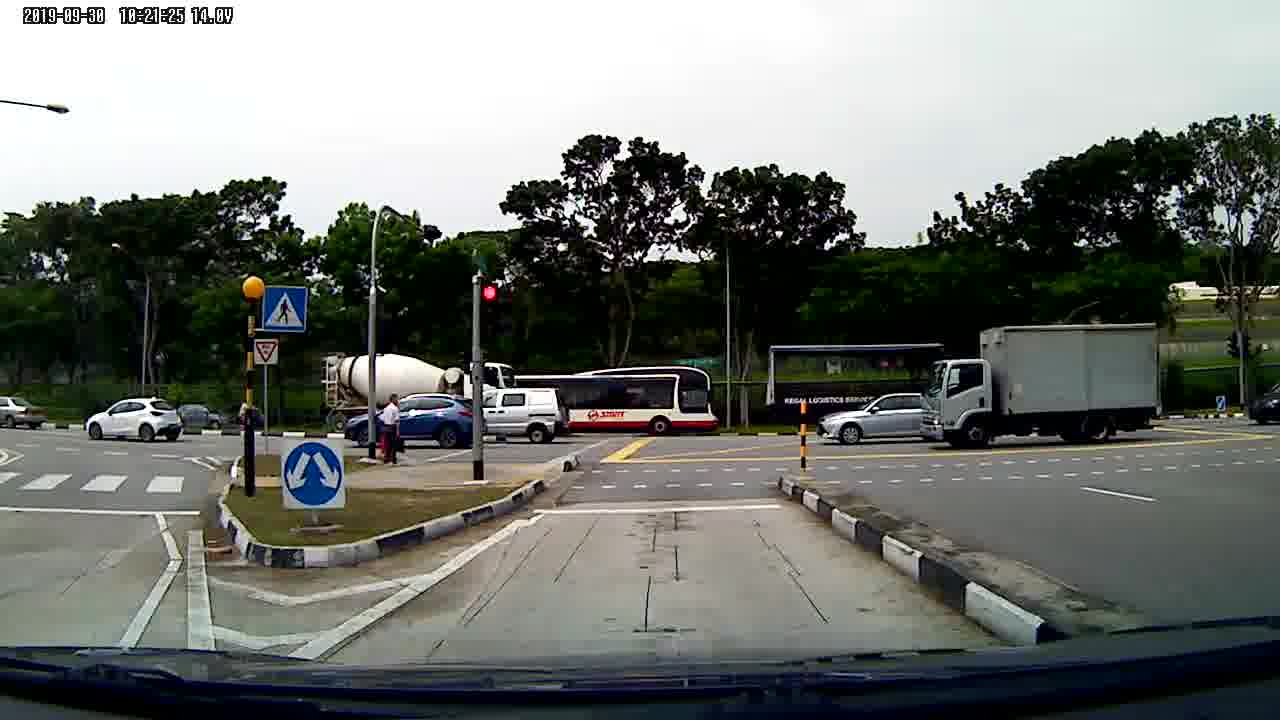bus: (565, 365, 718, 442)
car: (346, 396, 473, 453), (818, 395, 925, 446), (85, 396, 185, 448), (174, 400, 235, 435), (1, 396, 47, 434)
